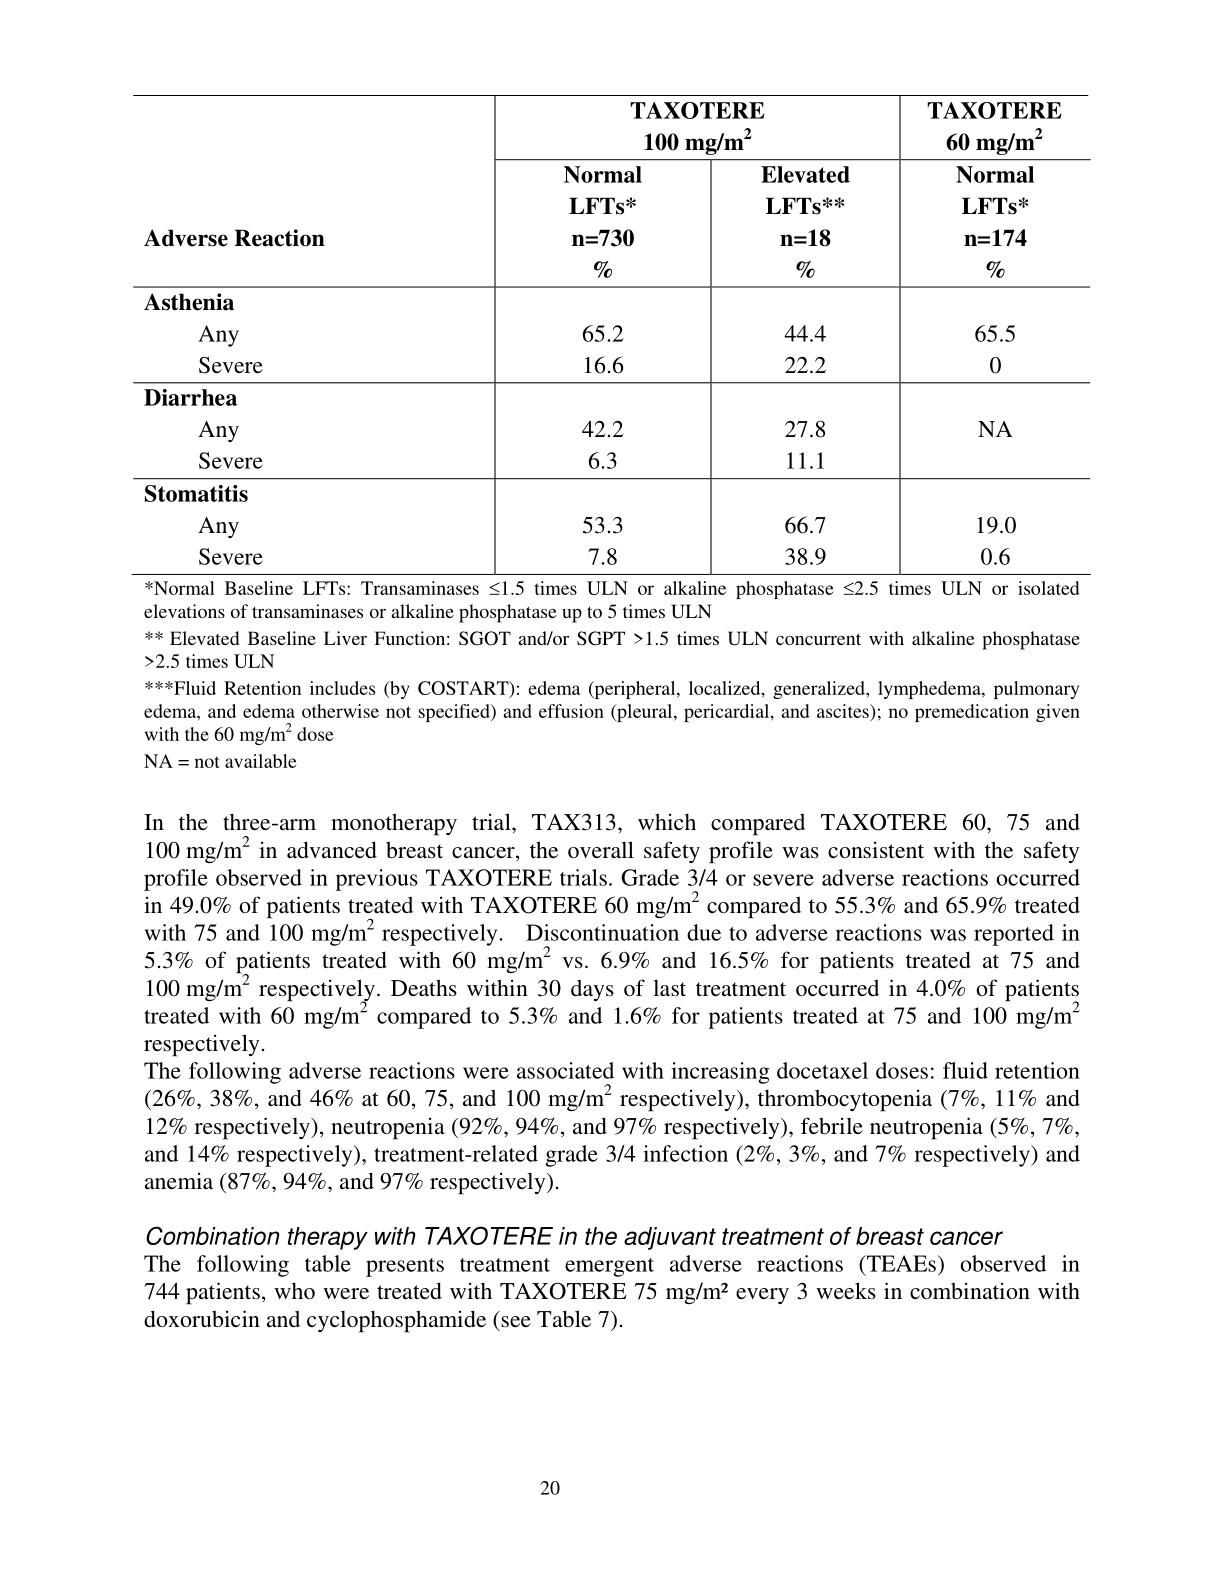partial_lined_merged_cells: (130, 94, 1093, 576)
